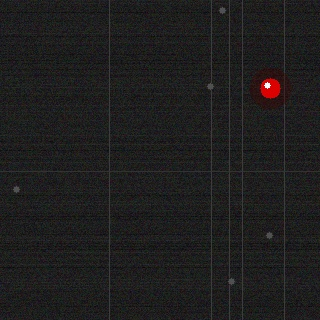red_fault: (258, 76, 282, 100)
